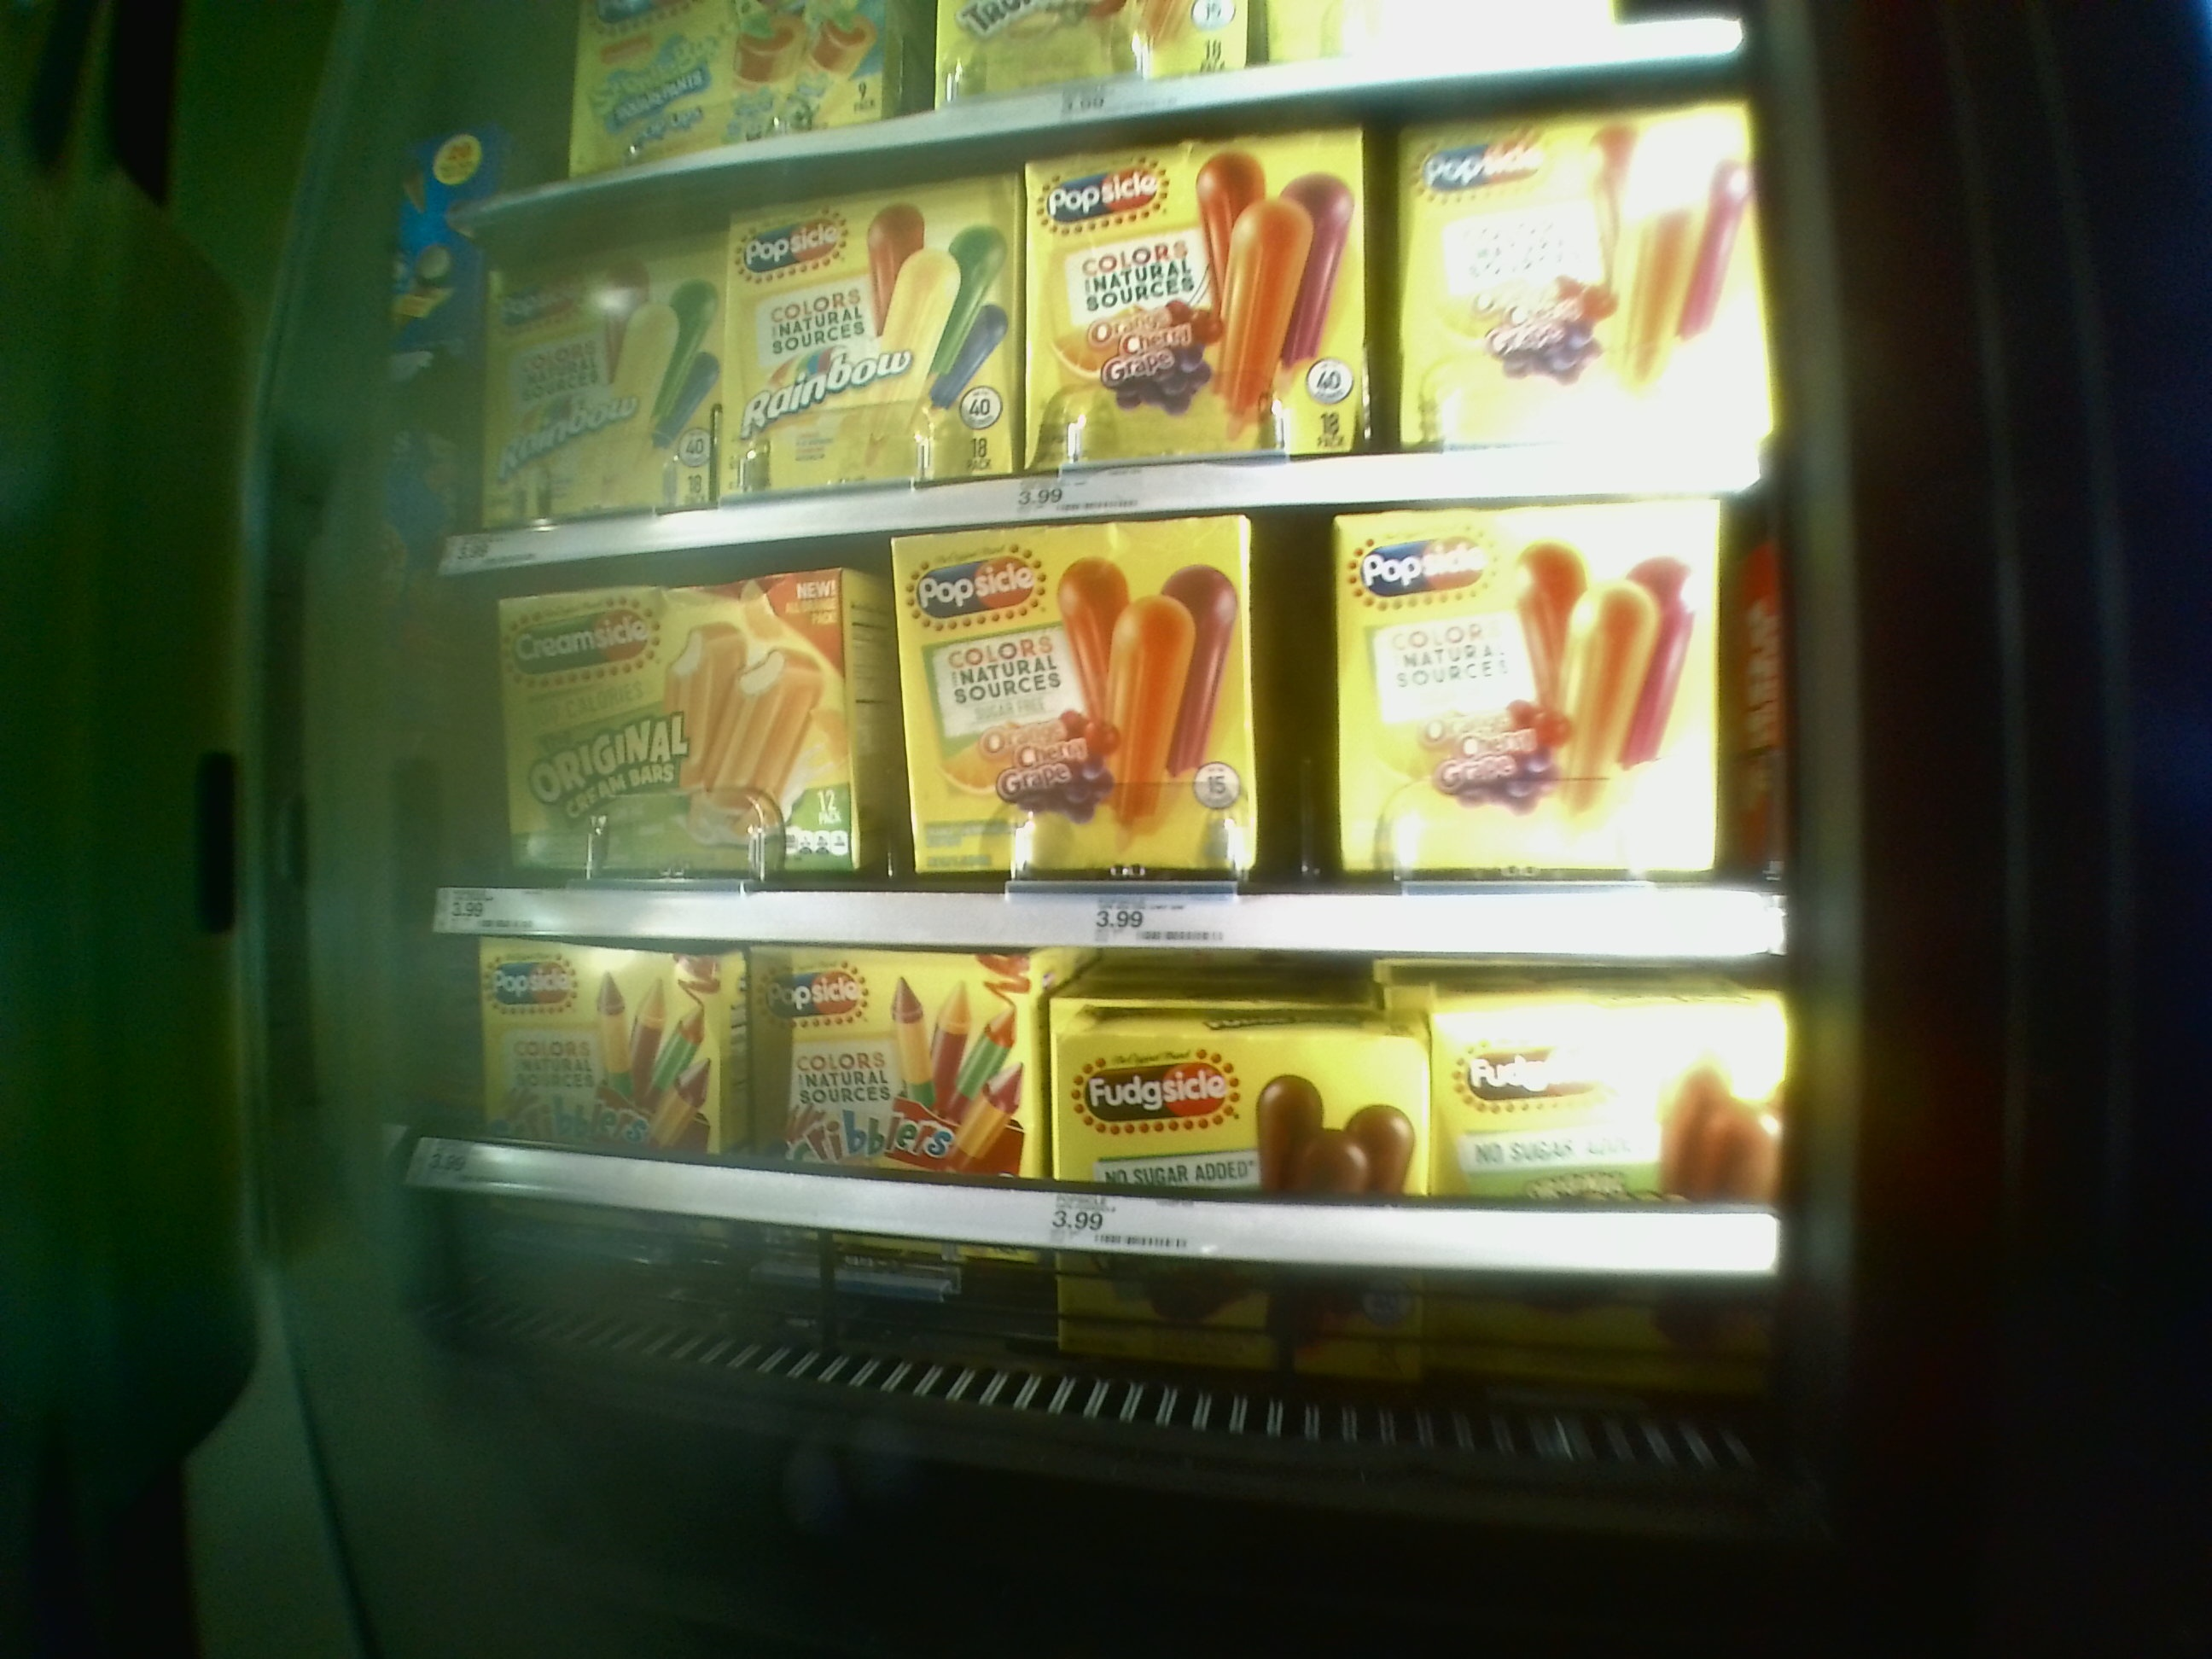shelf: (441, 943, 1794, 1366), (428, 528, 1794, 939)
